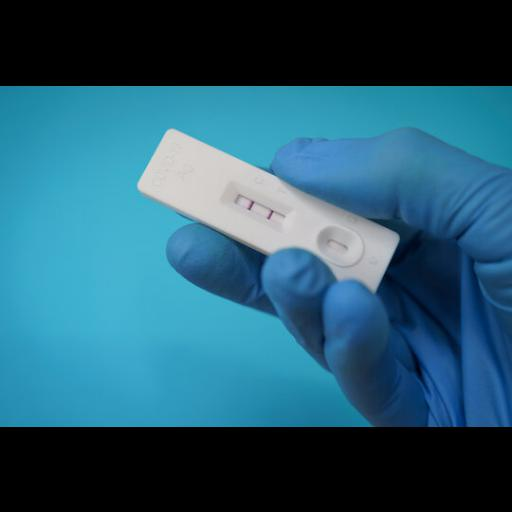Pos: (134, 126, 402, 295)
